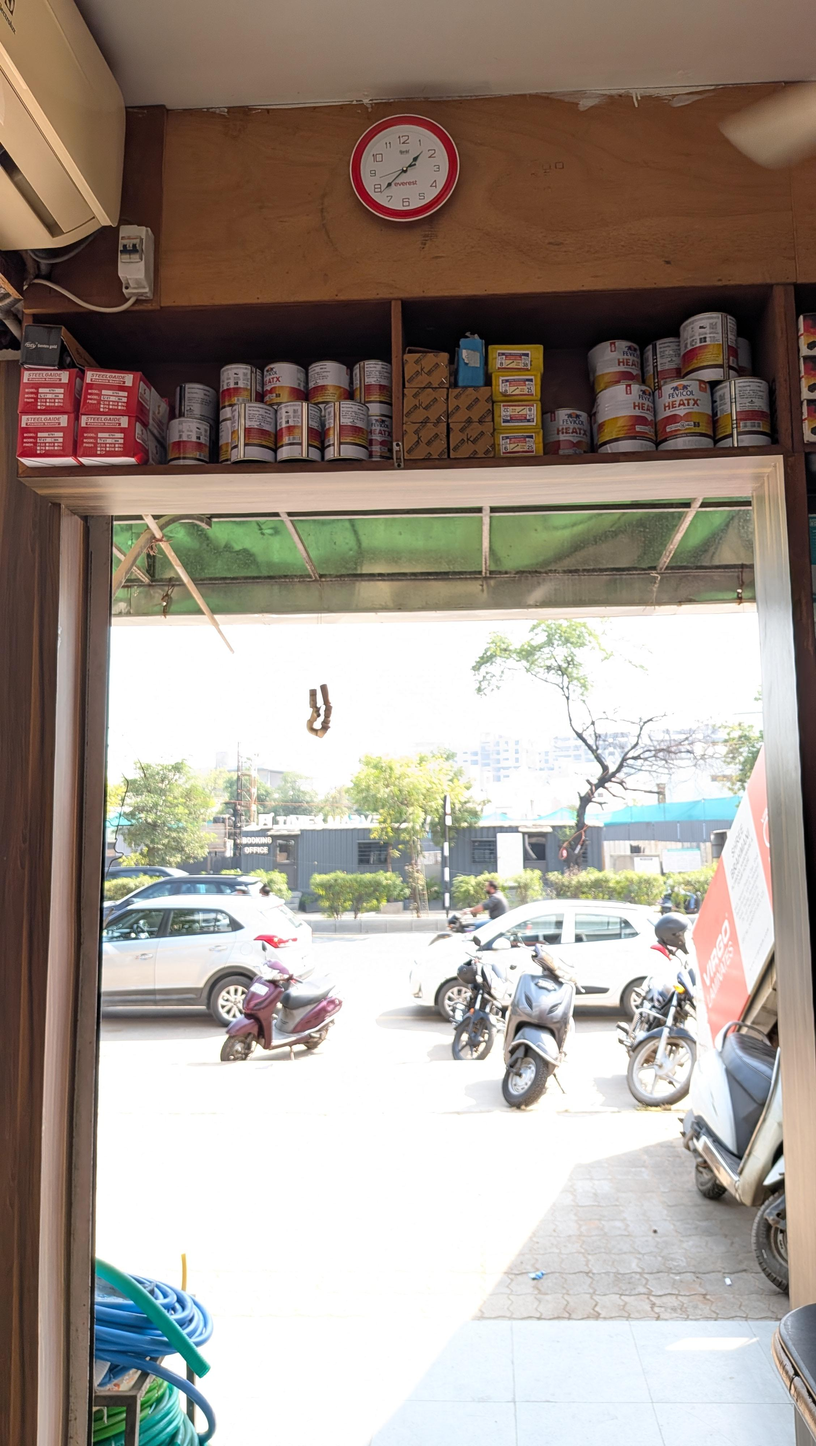Fevicol_HEATX: (654, 379, 714, 450), (713, 377, 772, 448), (595, 382, 655, 451), (680, 312, 737, 380), (588, 340, 642, 393), (323, 400, 369, 461), (277, 401, 322, 462), (230, 403, 276, 462), (219, 364, 262, 422), (543, 408, 590, 455), (642, 336, 681, 390), (264, 362, 309, 405), (168, 418, 210, 463), (352, 359, 392, 405), (309, 361, 350, 403), (175, 383, 218, 422), (369, 412, 392, 459), (219, 419, 232, 464)
